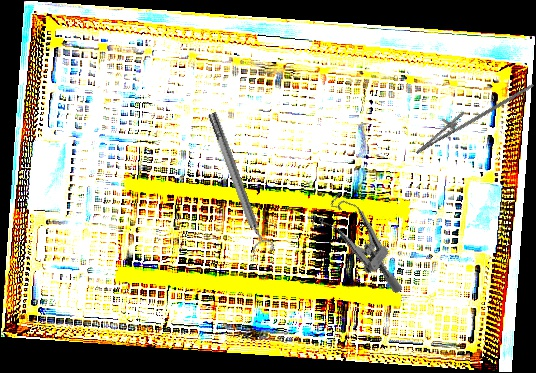Fixation Ring: (201, 108, 276, 258)
Needle Holder: (409, 62, 535, 168)
Speculum: (299, 184, 428, 296)
